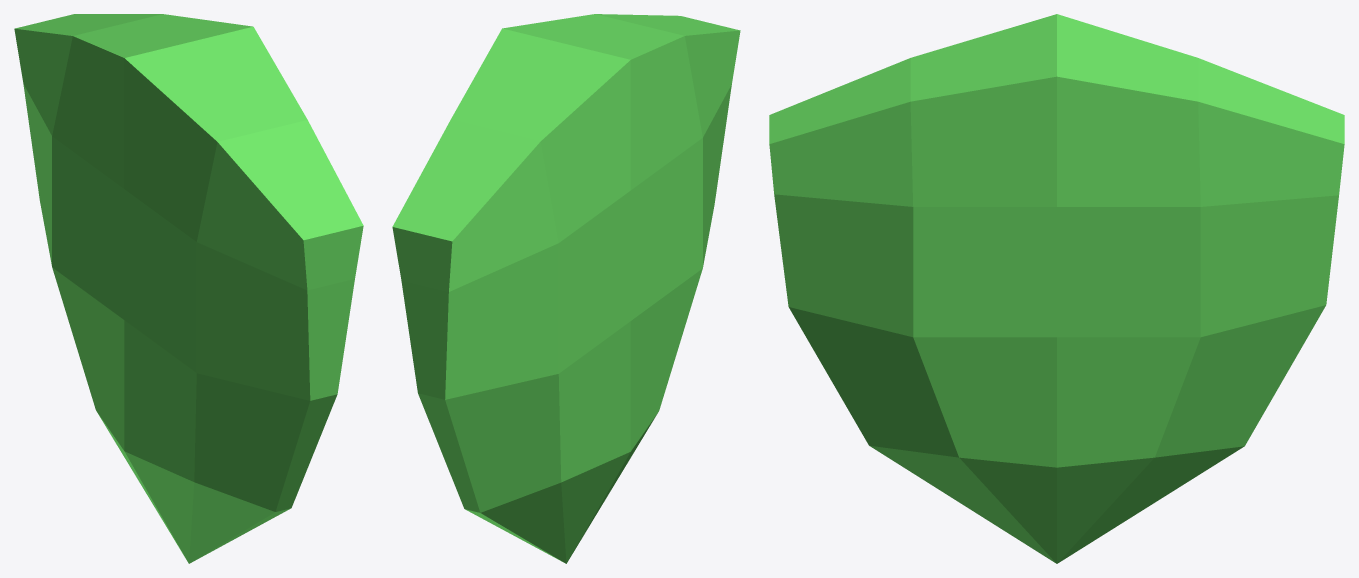
File: greensheild.fbx
3 renders of one model, left to right at view 1: azimuth 30°, elevation 25°; view 2: azimuth 150°, elevation 25°; view 3: azimuth 270°, elevation 25°, orthographic.
Visible parts, largest first — view 1: Cube; view 2: Cube; view 3: Cube.
Boxes of the visible parts, x1,y1,x2,y2 form: Cube: [14, 14, 363, 563]; Cube: [392, 14, 740, 563]; Cube: [769, 14, 1344, 563].
Bounding box in the file's own units: 51.54 × 199 × 200.
